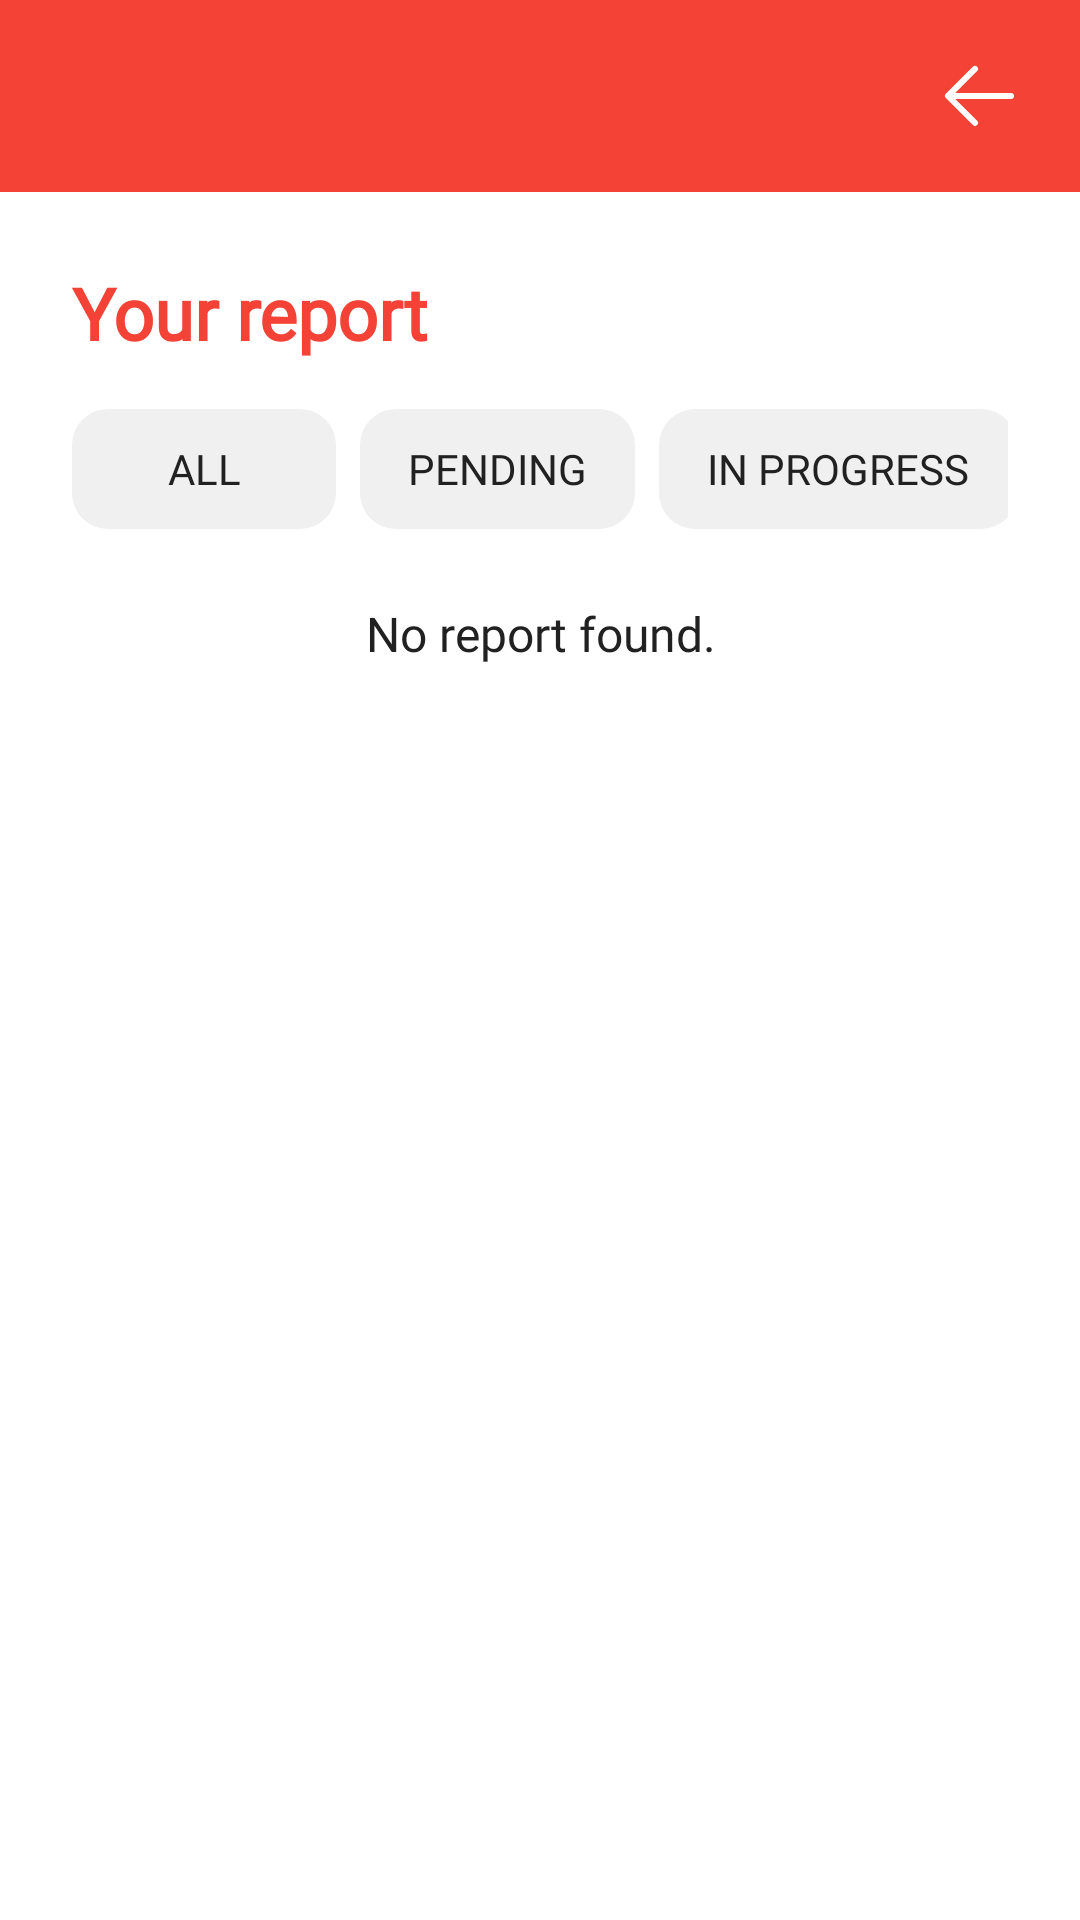

Icons on this 1080×1920 Android screen, each with the point to tap as [x,y]:
Back: [979,95]
